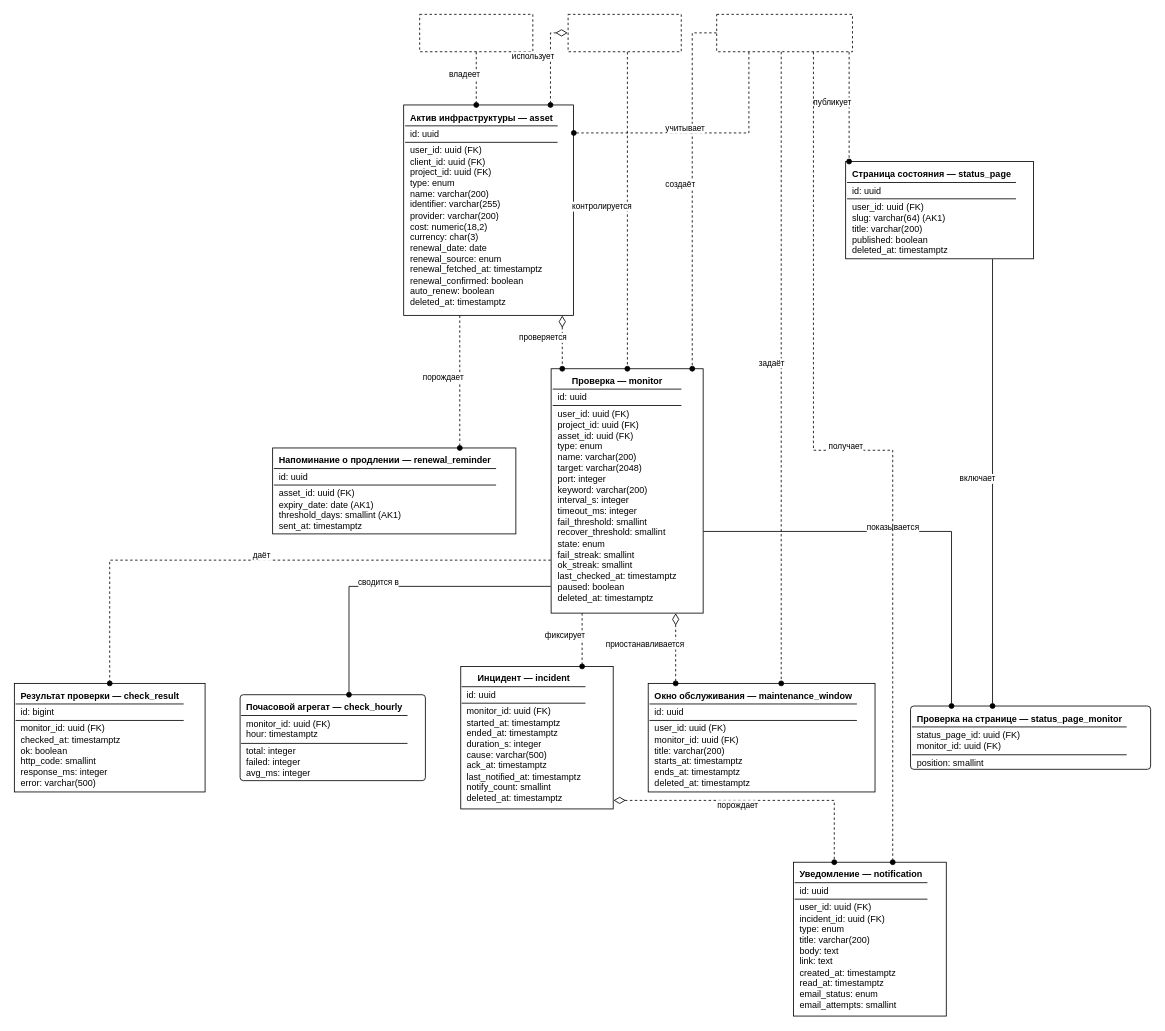
Some shapes in this 1165 by 1031 pixel diagram are drawn without their labels. The shapes that lost their labels are listed below. From the top down, each one's centre as x and y in pixels, then its label:
At (476,33): "Заказчик — client id: uuid".
At (624,33): "Проект — project id: uuid".
At (784,33): "Исполнитель — app_user id: uuid".
